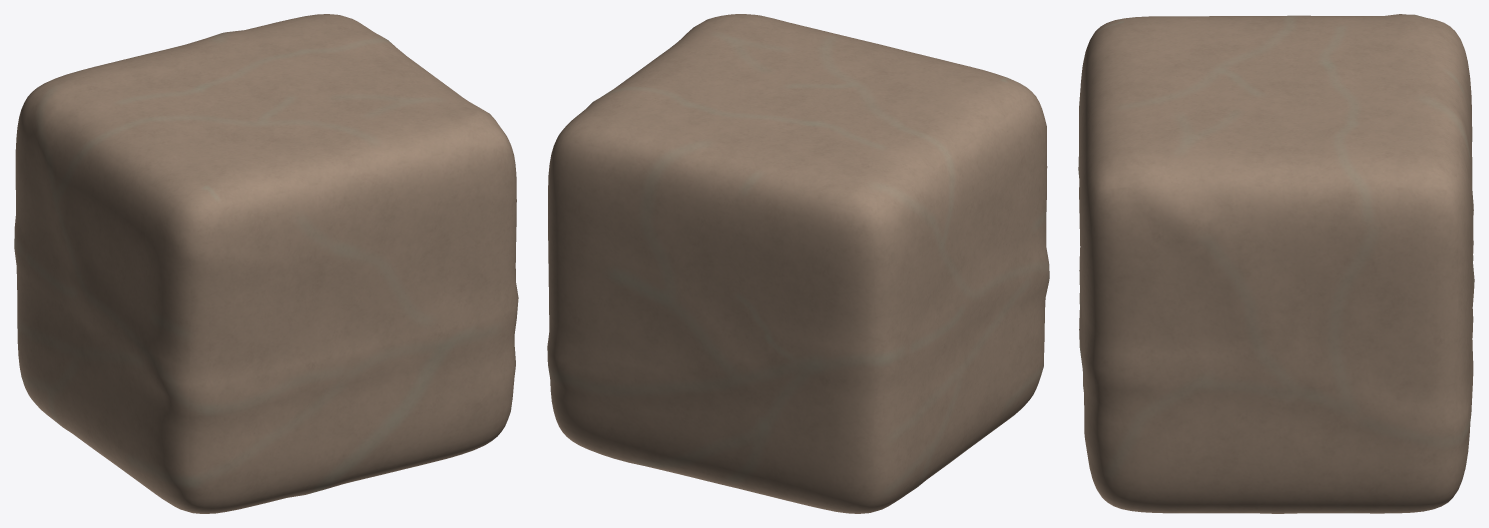
File: meat_cube.glb
3 renders of one model, left to right at view 1: azimuth 30°, elevation 25°; view 2: azimuth 150°, elevation 25°; view 3: azimuth 270°, elevation 25°, orthographic. The views are drawn at different scales.
Visible parts, largest first — view 1: Object_2; view 2: Object_2; view 3: Object_2.
Boxes of the visible parts, bbox=[...] form: Object_2: bbox=[14, 14, 518, 513]; Object_2: bbox=[547, 14, 1049, 513]; Object_2: bbox=[1078, 14, 1474, 513].
Bounding box in the file's own units: 1.05 × 0.9508 × 0.9482.
1 material, 1 textured.
